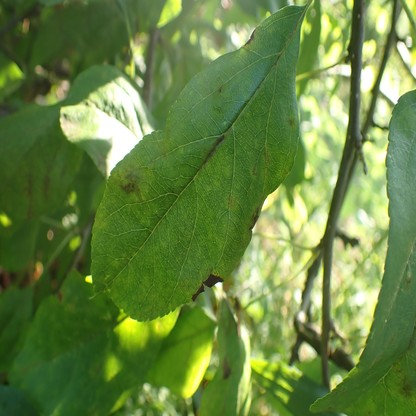scab: (393, 327, 416, 396), (114, 163, 148, 199), (42, 144, 62, 202), (199, 134, 227, 172), (192, 275, 223, 301), (251, 147, 273, 178), (152, 129, 172, 157), (23, 173, 33, 222), (241, 30, 257, 54), (248, 203, 261, 229), (95, 148, 107, 170), (222, 355, 231, 378), (227, 193, 238, 207), (403, 275, 412, 290), (286, 116, 297, 128), (363, 407, 372, 416), (179, 283, 191, 289), (218, 84, 223, 93)
